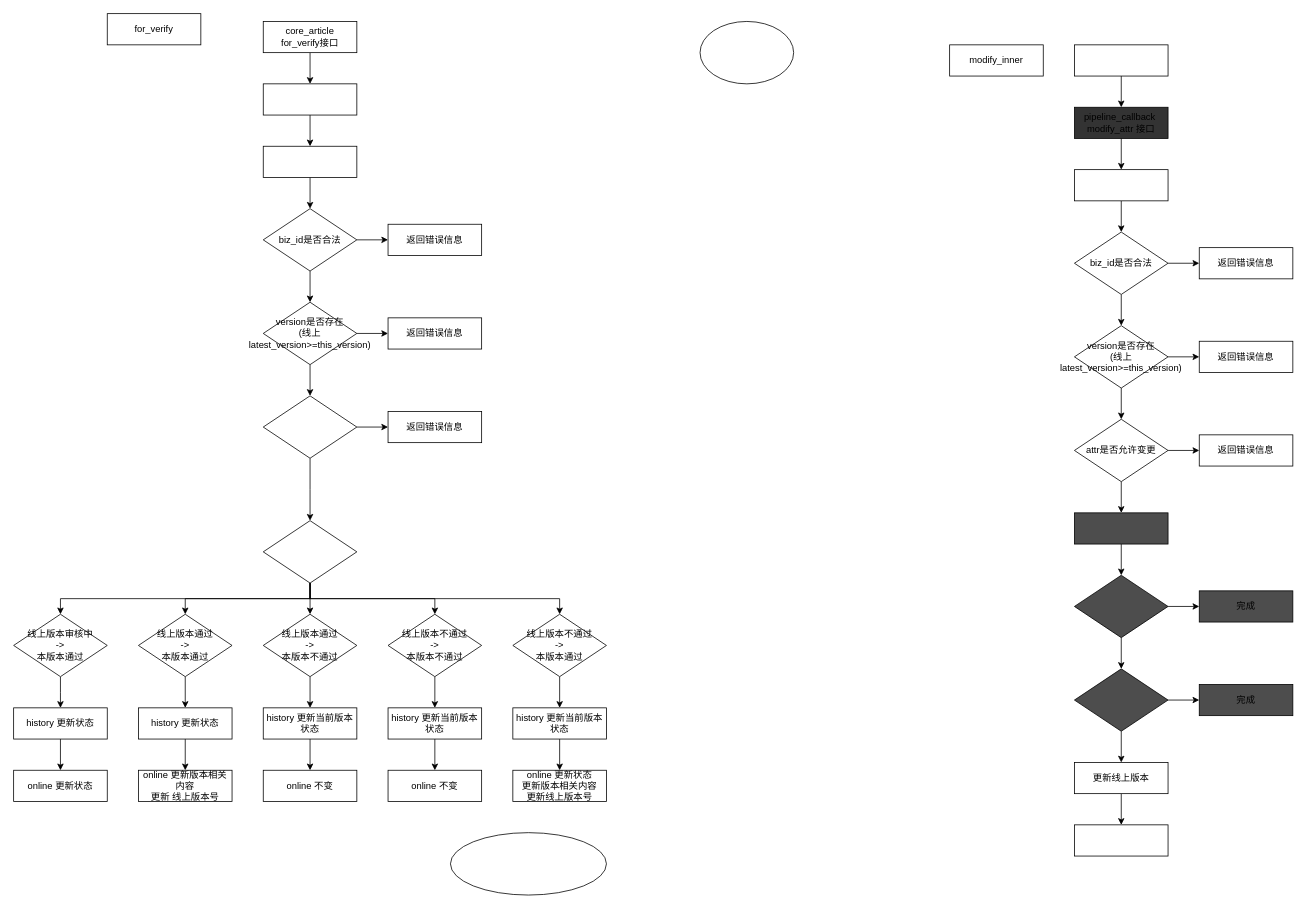
The diagram is 1307 pixels wide and 909 high, and some of its shapes have lost their labels. The box of each missing label's shape, as (x1, y1, x2, y2) in pixels:
core_article modify_attr 接口: (1074, 44, 1168, 76)
pipeline_callback for_verify接口: (262, 83, 357, 115)
publish for_verify接口: (262, 145, 357, 177)
publish modify_attr 接口: (1074, 169, 1168, 201)
status变更是否允许 (跟biz绑定): (262, 395, 357, 458)
发消息到数据流: (1074, 824, 1168, 856)
当前pgc处理流程 不通过到通过仅status变，vl不变，vl由数据流写入，这里可忽略: (450, 832, 606, 895)
当前版本大于等于线上版本: (262, 520, 357, 583)
是否为线上版本: (1074, 668, 1168, 731)
是否需要同步到线上 (MsgType=1): (1074, 574, 1168, 638)
更新history对应版本数据: (1074, 512, 1168, 544)
欲收回数据流调用commit的部分，后发现impossible，遂暂时放弃: (699, 21, 794, 84)
